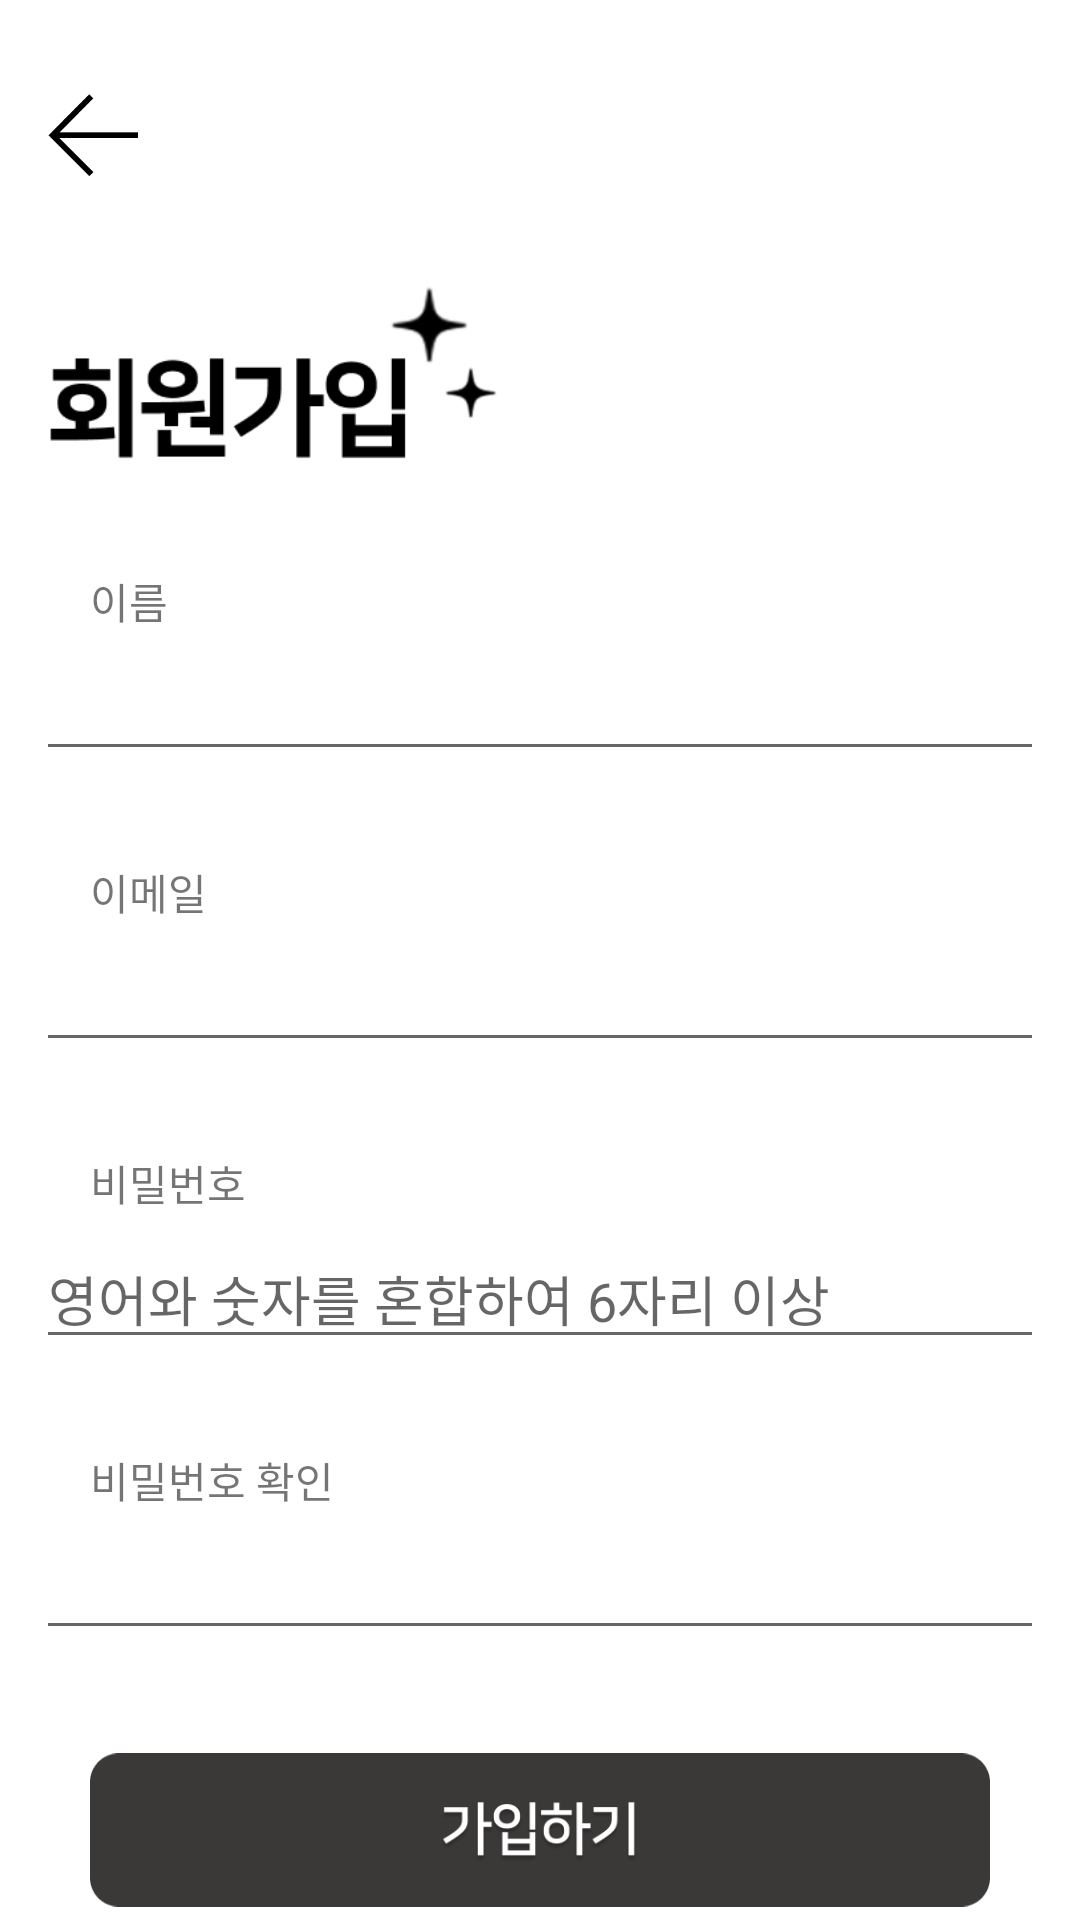

Icons on this 1080×1920 Android screen, each with its box as (x1, y1, x2, y2):
backbutton: (48, 94, 138, 176)
